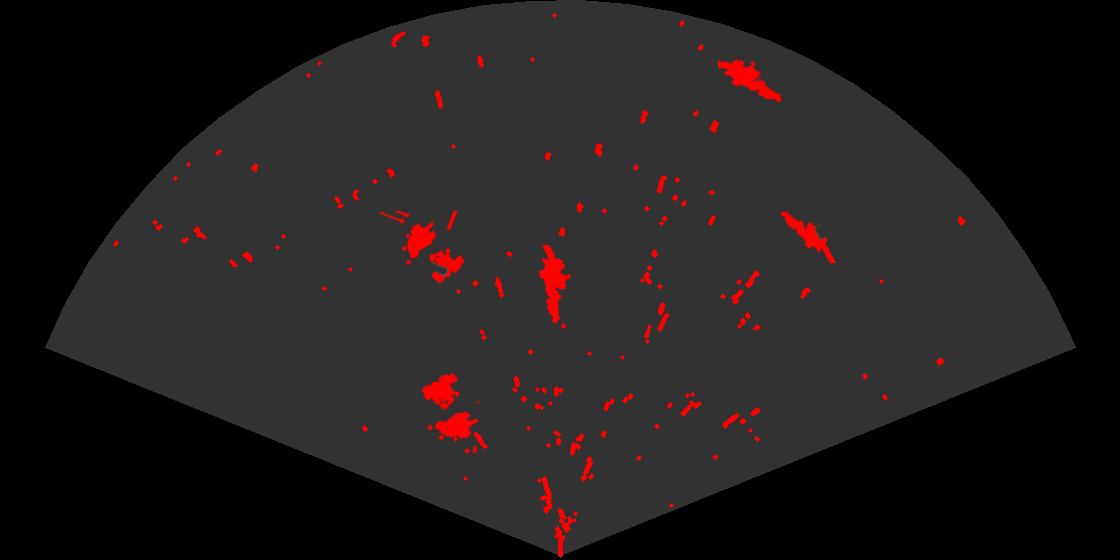cage: (380, 211, 466, 285), (420, 371, 479, 453)
frogman: (779, 209, 837, 263), (718, 57, 784, 104), (537, 245, 573, 325)
